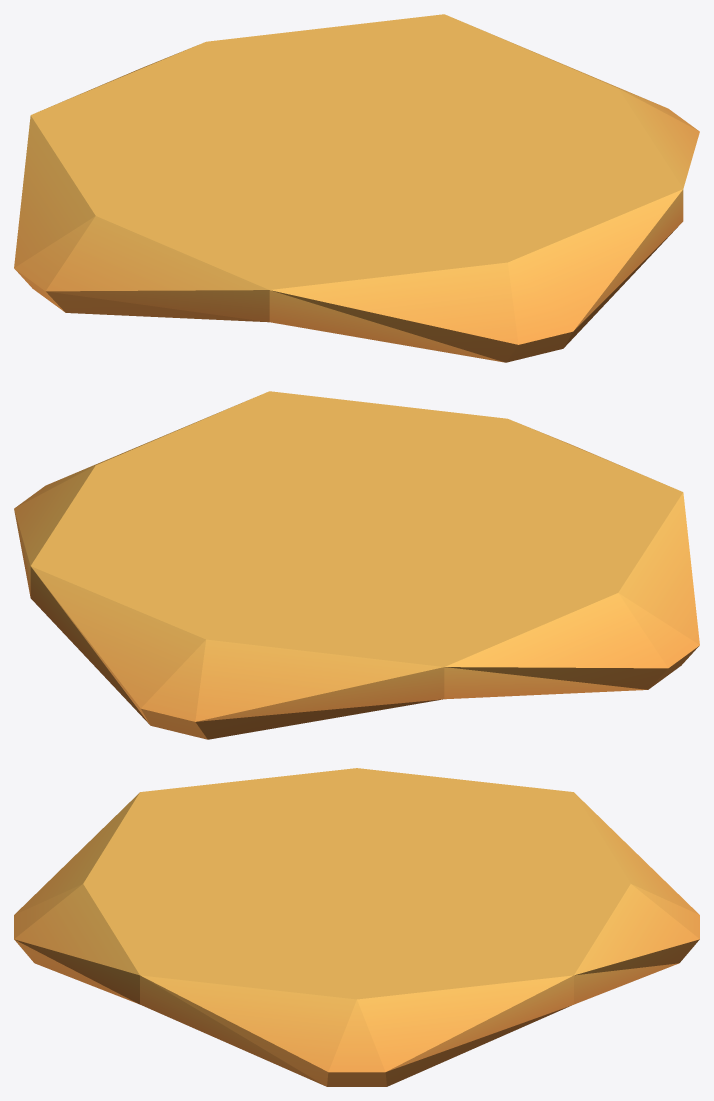
The model's file is cheese.glb.
The picture shows the model from 3 angles, top to bottom: view 1: azimuth 30°, elevation 25°; view 2: azimuth 150°, elevation 25°; view 3: azimuth 270°, elevation 25°; orthographic projection. The views are drawn at different scales.
Visible parts, largest first — view 1: Cheese; view 2: Cheese; view 3: Cheese.
Part boxes in pixels (box(x1,y1,x2,y2)): Cheese: box(14, 14, 699, 362); Cheese: box(14, 391, 699, 739); Cheese: box(14, 768, 699, 1086).
Size of the model in its own units: 0.121 by 0.013 by 0.121.
1 material, 1 textured.
